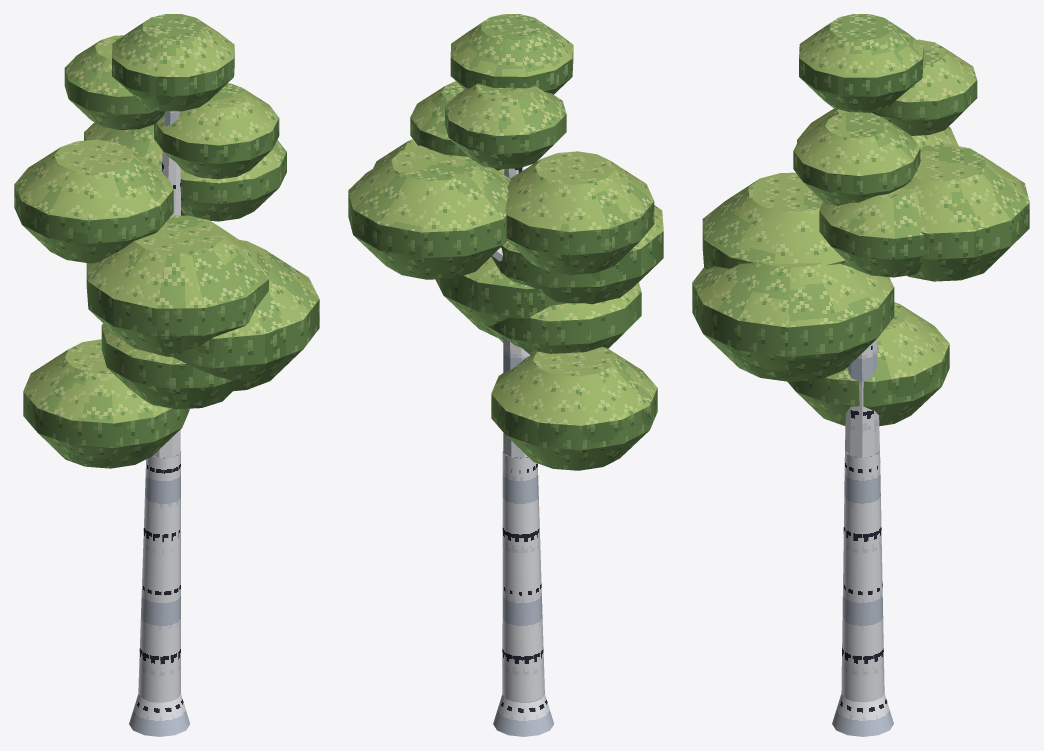
Rendered from birch_1.glb.
3 views of the same model, side by side, from view 1: azimuth 30°, elevation 25°; view 2: azimuth 150°, elevation 25°; view 3: azimuth 270°, elevation 25° (orthographic).
Visible parts, largest first — view 1: birch_2; view 2: birch_2; view 3: birch_2.
Part boxes in pixels (left/top/right/bottom): birch_2: left=14, top=14, right=319, bottom=736; birch_2: left=348, top=14, right=663, bottom=736; birch_2: left=692, top=14, right=1029, bottom=736.
Bounding box in the file's own units: 2.24 × 5.75 × 2.5.
3 materials, 3 textured.
